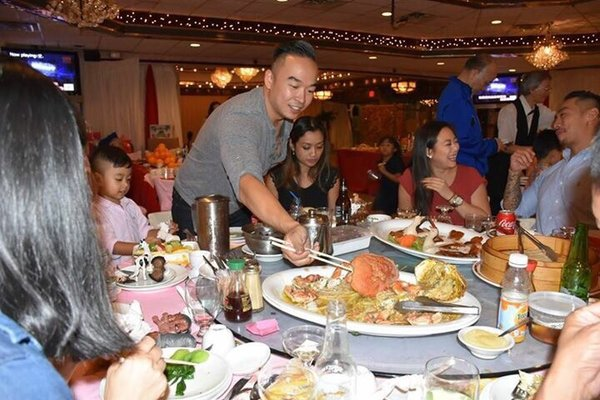pizza: (423, 354, 481, 399), (193, 194, 230, 254), (214, 269, 253, 322), (241, 263, 264, 311)
